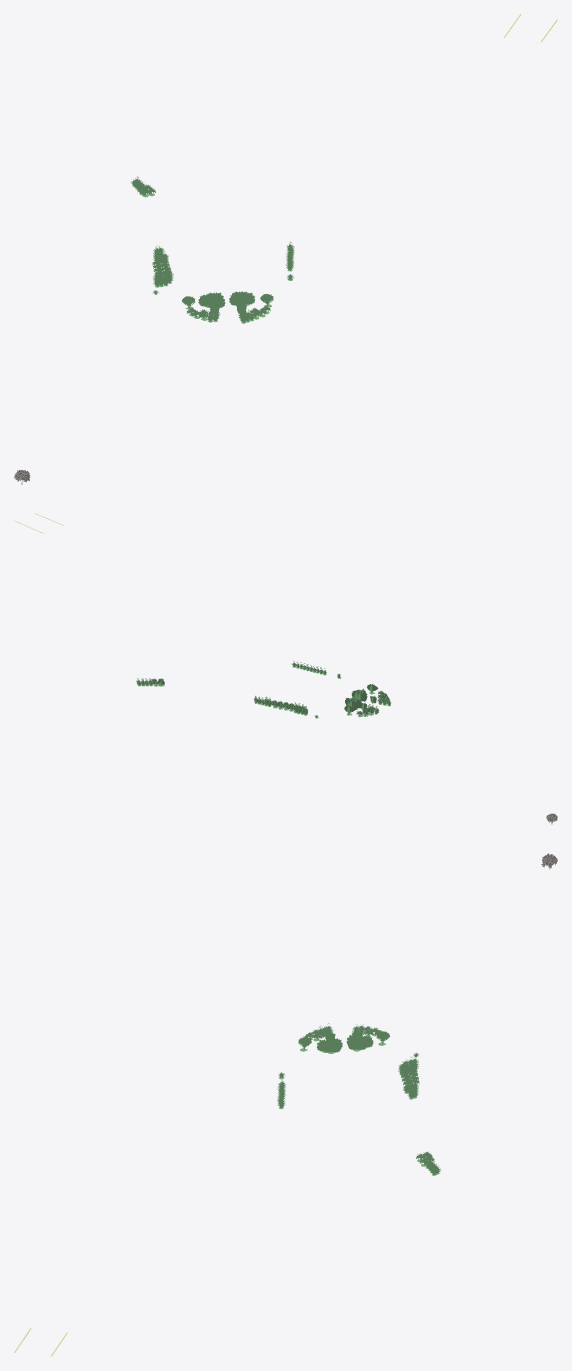
3 renders of one model, top to bottom at view 1: azimuth 90°, elevation 25°; view 2: azimuth 150°, elevation 25°; view 3: azimuth 270°, elevation 25°, orthographic. The views are drawn at different scales.
Bounding box in the file's own units: 107 × 2.52 × 51.03.
